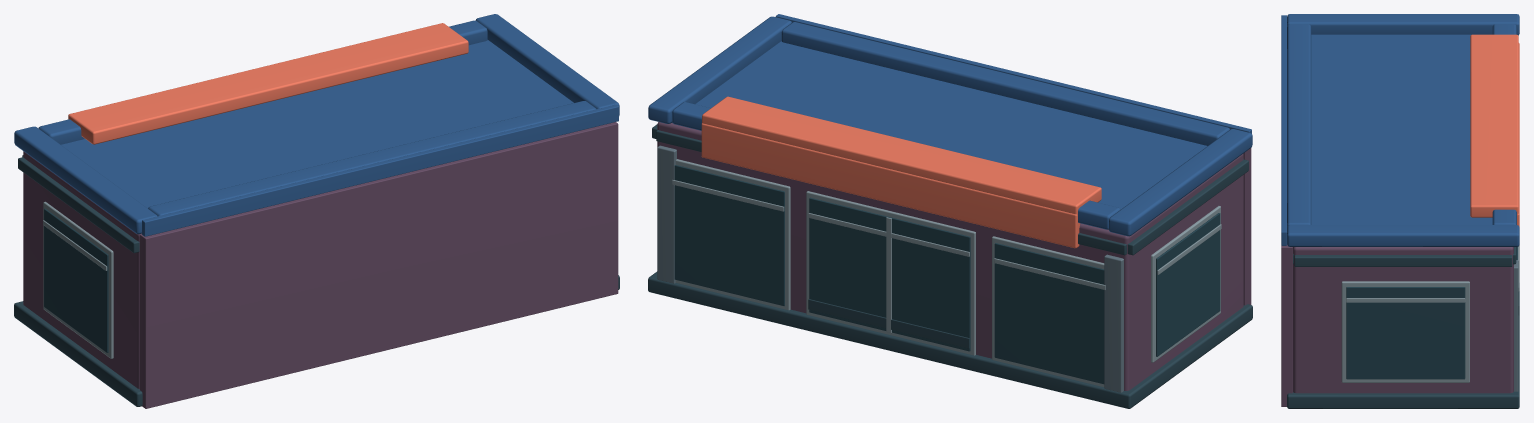
Rendered from d07_retail_buildings_03.glb.
3 views of the same model, side by side, from view 1: azimuth 30°, elevation 25°; view 2: azimuth 150°, elevation 25°; view 3: azimuth 270°, elevation 25° (orthographic). The views are drawn at different scales.
Visible parts, largest first — view 1: D07RetailBuildings03_Mesh; view 2: D07RetailBuildings03_Mesh; view 3: D07RetailBuildings03_Mesh.
Boxes of the visible parts, box(x1,y1,x2,y2) form: D07RetailBuildings03_Mesh: box(14, 14, 619, 408); D07RetailBuildings03_Mesh: box(648, 14, 1252, 408); D07RetailBuildings03_Mesh: box(1281, 14, 1519, 408).
Size of the model in its own units: 10.8 by 4.08 by 4.92.
